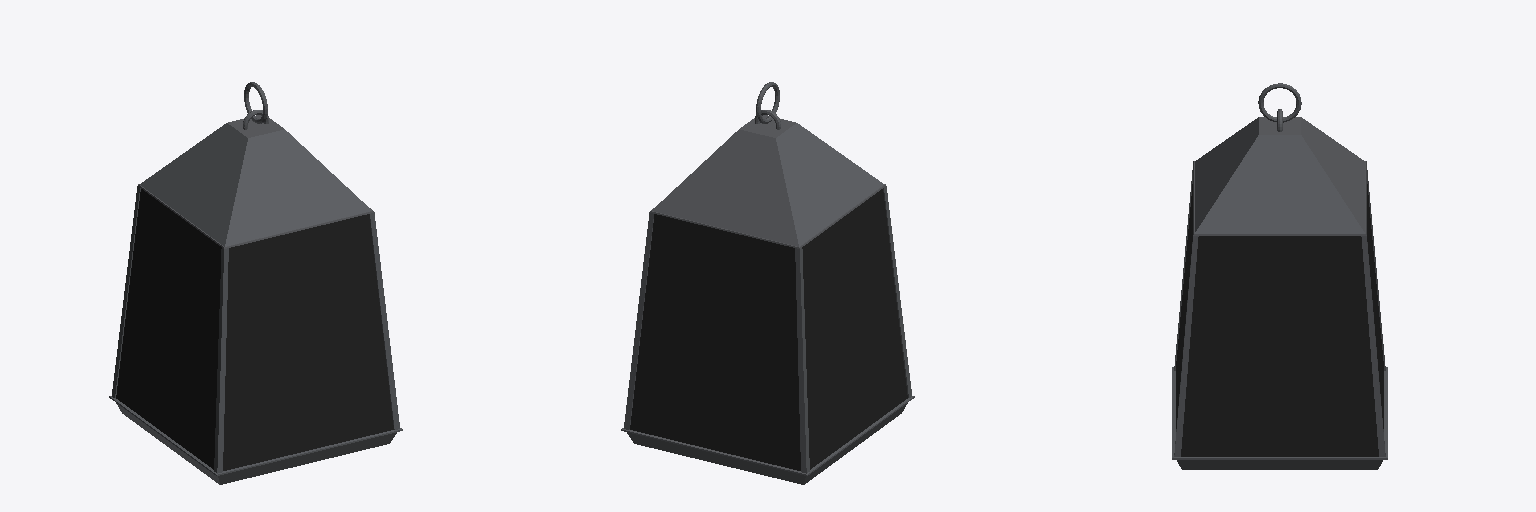
File: lantern.obj
3 renders of one model, left to right at view 1: azimuth 30°, elevation 25°; view 2: azimuth 150°, elevation 25°; view 3: azimuth 270°, elevation 25°, orthographic.
Parts seen in each view (by area): view 1: glass, cover; view 2: glass, cover; view 3: glass, cover, link2.
Part boxes in pixels (bbox=[...]): glass: bbox=[116, 189, 393, 470]; cover: bbox=[109, 115, 402, 484]; glass: bbox=[630, 189, 907, 470]; cover: bbox=[621, 115, 914, 484]; glass: bbox=[1176, 184, 1383, 456]; cover: bbox=[1172, 117, 1387, 469]; link2: bbox=[1258, 83, 1301, 122].
Bounding box in the file's own units: 35.92 × 63.6 × 35.92.